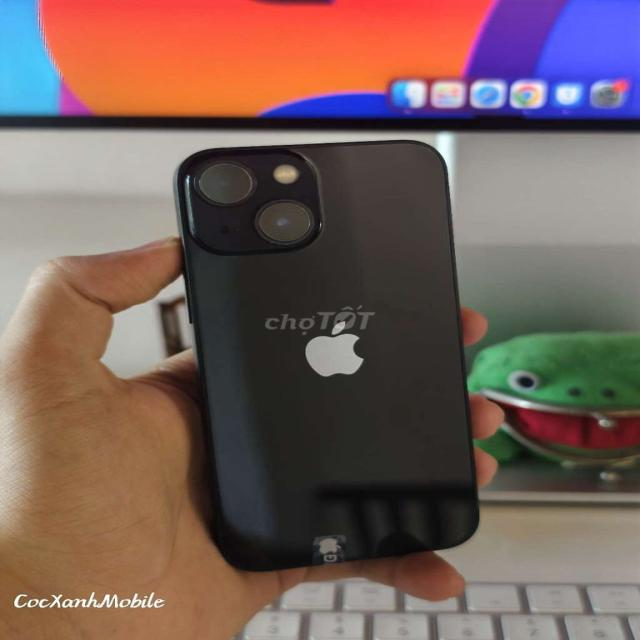gen_12_13: (170, 140, 484, 576)
